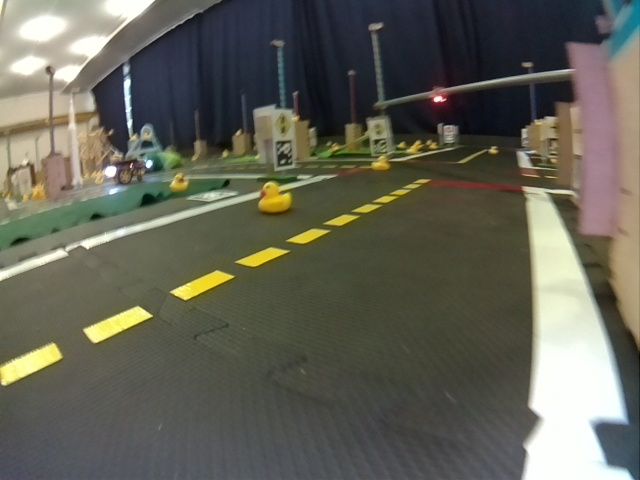Duckie: (257, 181, 291, 212), (170, 174, 188, 191), (372, 157, 390, 170), (489, 145, 497, 154)
Duckiebot: (101, 158, 152, 183)
QR code: (187, 189, 237, 203), (275, 140, 293, 168), (372, 138, 389, 155)
Signal sign: (274, 111, 290, 136), (370, 123, 386, 137)
Traffic light: (431, 87, 446, 103)
